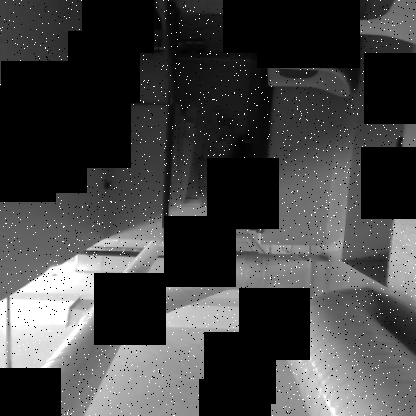Porte: (160, 8, 277, 235)
